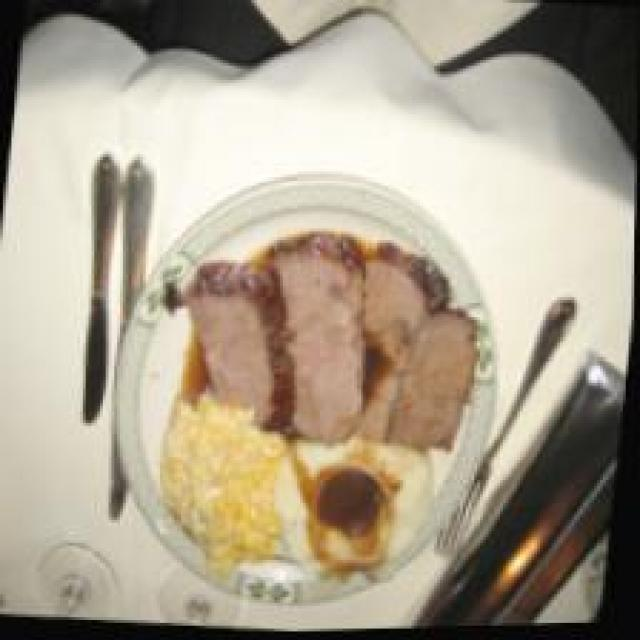Rib: (157, 237, 486, 472)
